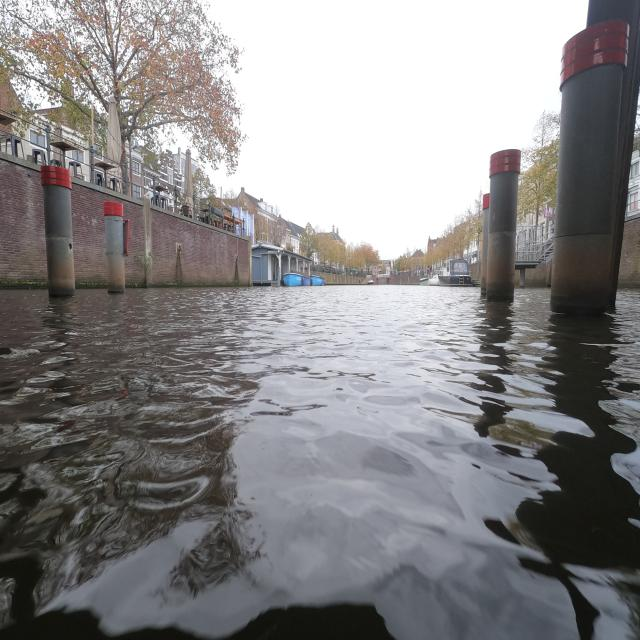boat: (420, 273, 472, 285), (282, 273, 312, 286), (311, 275, 324, 285)
sky: (208, 0, 588, 258)
wall: (148, 205, 252, 286), (71, 179, 145, 287), (0, 153, 47, 285), (618, 217, 640, 287), (515, 259, 552, 286), (320, 272, 364, 284), (391, 275, 420, 285)
water: (0, 285, 640, 640)
